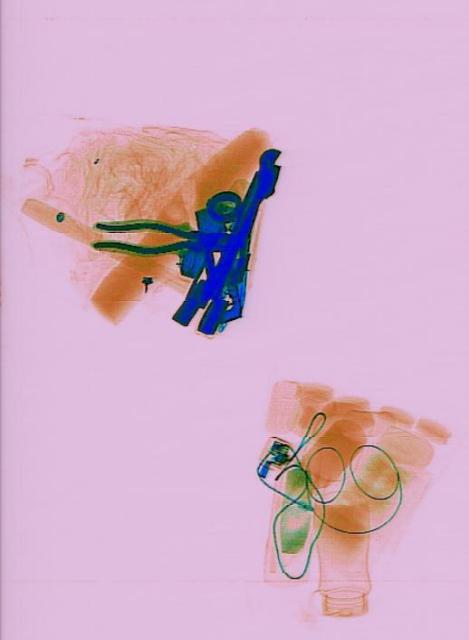Wrench: (190, 140, 289, 314)
